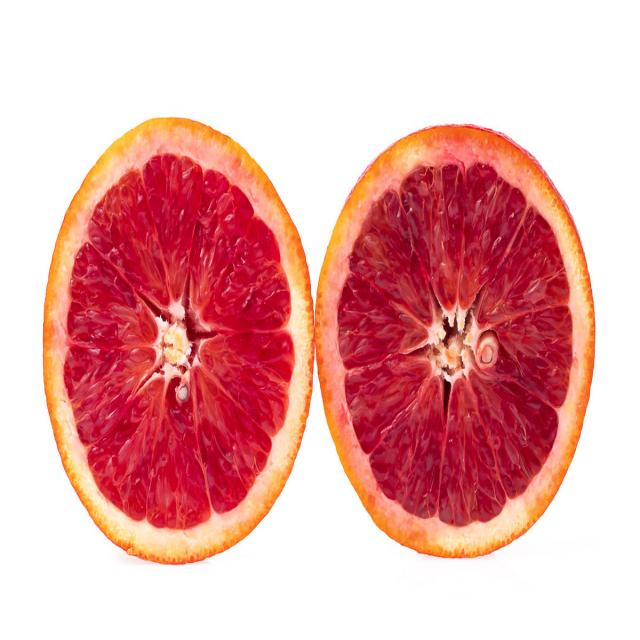orange: (42, 115, 316, 569), (317, 120, 598, 560)
